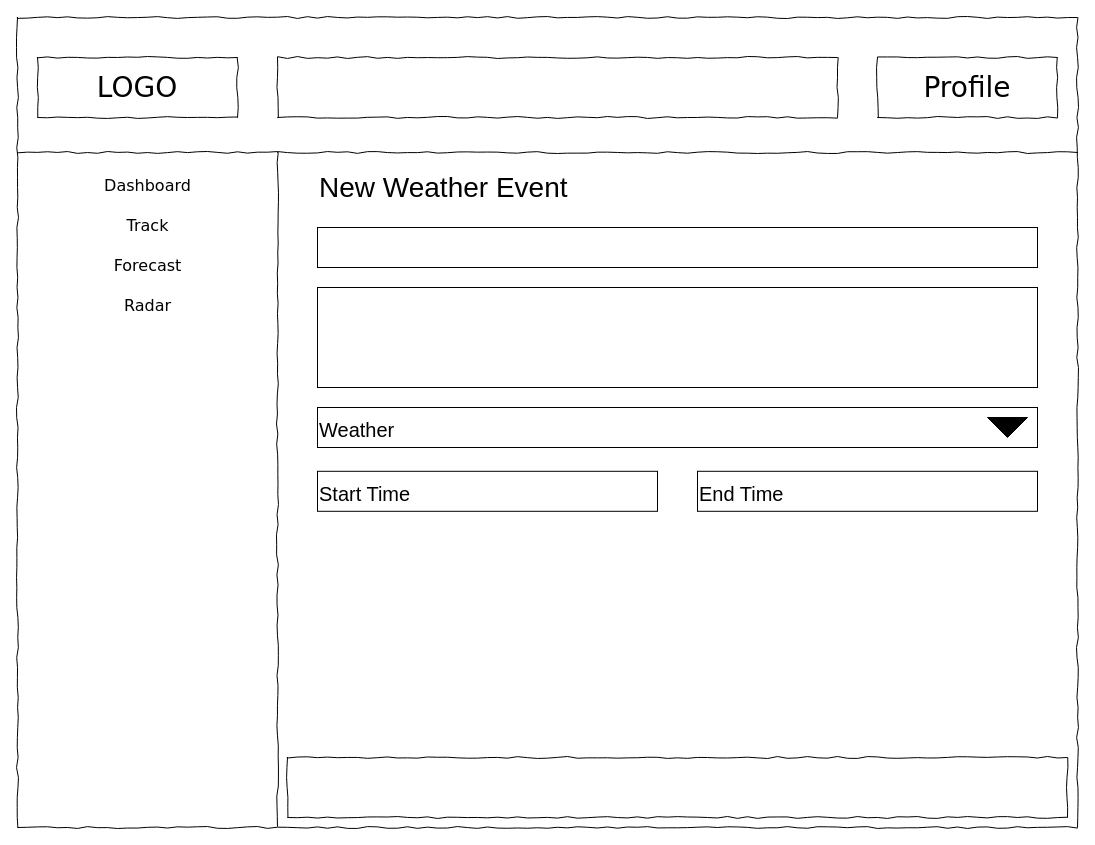
The diagram is 1095 pixels wide and 845 high, and some of its shapes have lost their labels. Here are the shapes that lost their labels. From the top down, the centre of each, then its label:
At pixel 557 87: "Search Bar".
At pixel 677 247: "Name".
At pixel 677 337: "Description".
